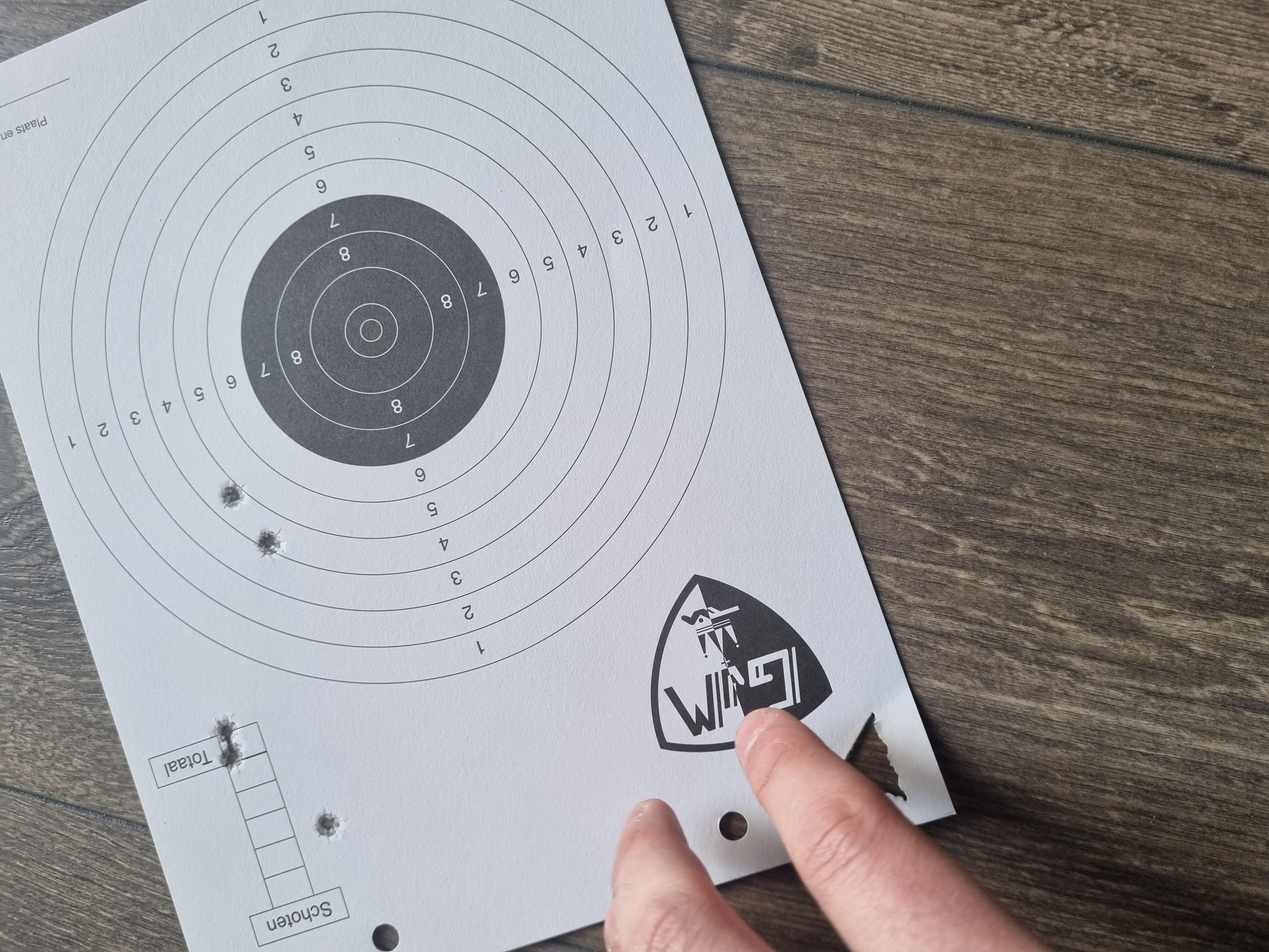hole: (524, 191, 567, 212), (146, 236, 191, 254), (591, 164, 628, 185), (275, 159, 312, 178), (243, 165, 277, 181)
